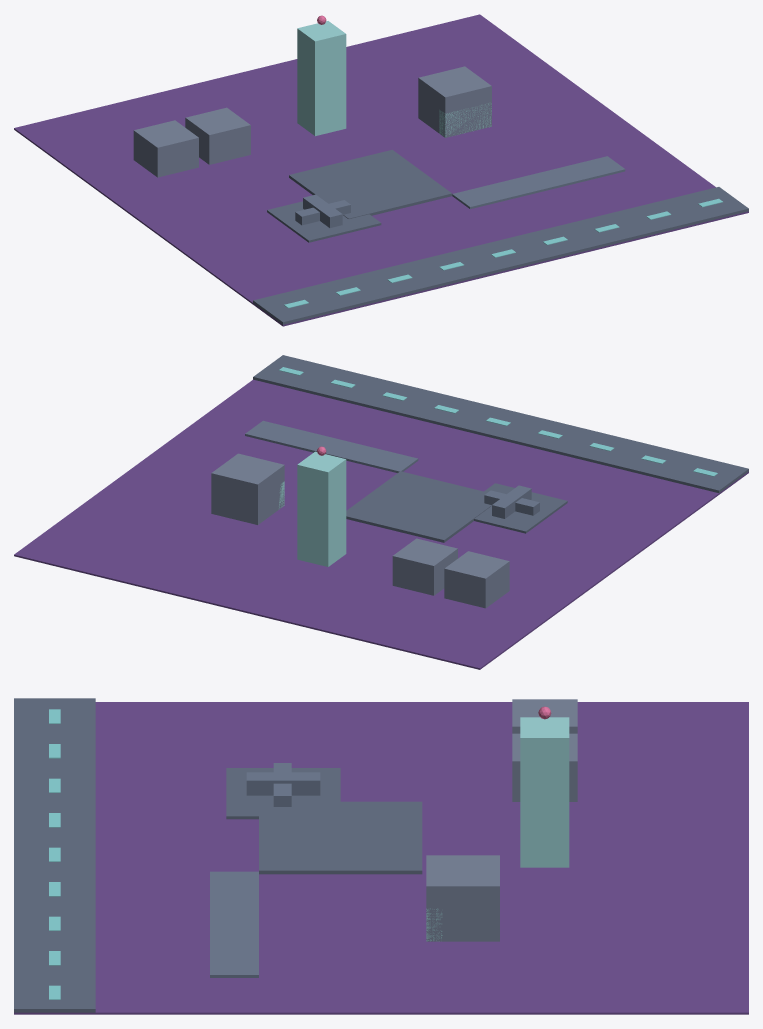
The model's file is stage_07.glb.
3 renders of one model, top to bottom at view 1: azimuth 30°, elevation 25°; view 2: azimuth 150°, elevation 25°; view 3: azimuth 270°, elevation 25°, orthographic. The views are drawn at different scales.
Visible parts, largest first — view 1: geometry_0; view 2: geometry_0; view 3: geometry_0.
Part boxes in pixels (left/top/right/bottom): geometry_0: left=14, top=14, right=748, bottom=326; geometry_0: left=14, top=355, right=748, bottom=669; geometry_0: left=14, top=698, right=748, bottom=1014.
Bounding box in the file's own units: 9 × 2.06 × 9.
